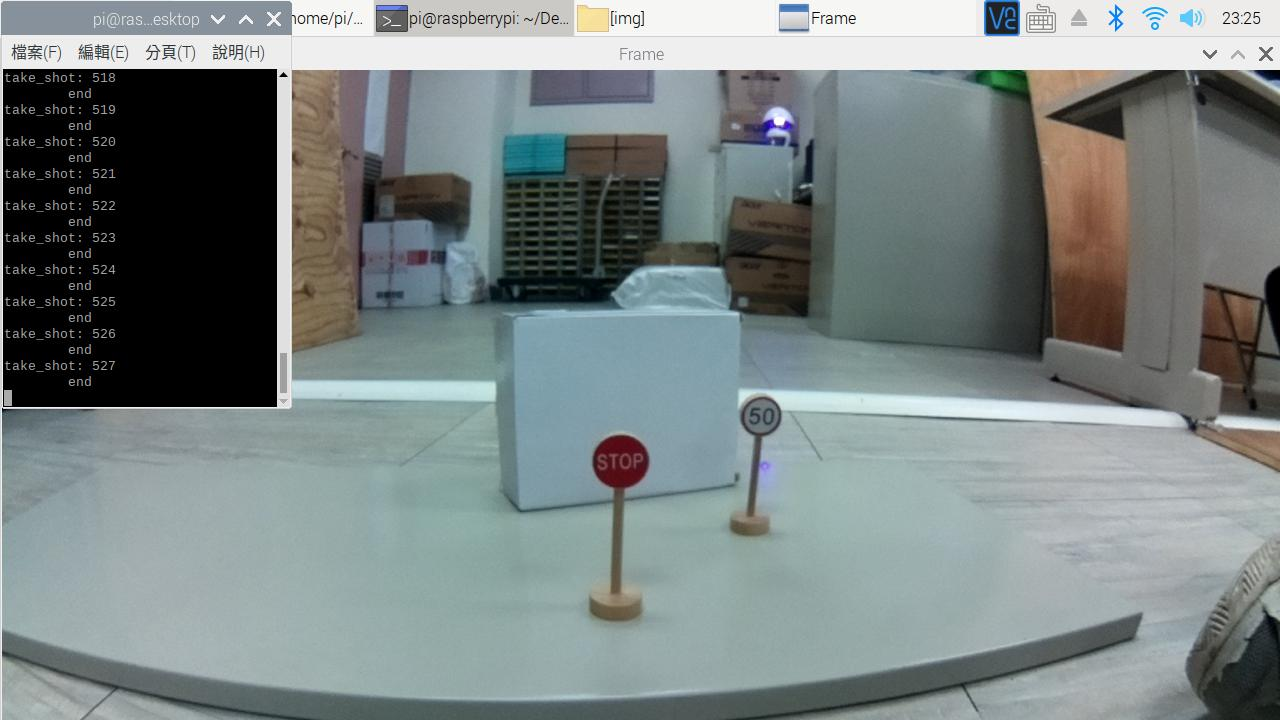Speed50: (731, 392, 798, 442)
Stop: (582, 429, 659, 500)
